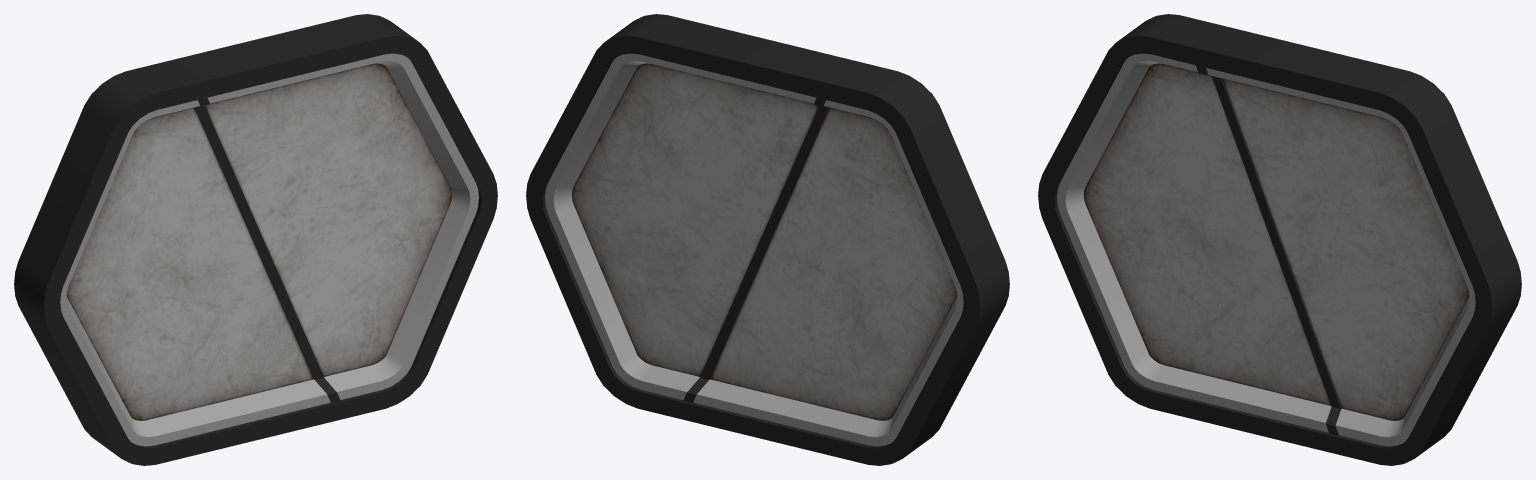
Rendered from Шлюз стеклянный.glb.
The picture shows the model from 3 angles, left to right: view 1: azimuth 30°, elevation 25°; view 2: azimuth 150°, elevation 25°; view 3: azimuth 330°, elevation 25°; orthographic projection.
Parts seen in each view (by area): view 1: Куб.006, Куб.002, Куб.001, Куб.005, Куб, Куб.003, Куб.004; view 2: Куб.006, Куб.002, Куб.001, Куб.005, Куб, Куб.003, Куб.004; view 3: Куб.002, Куб.006, Куб.001, Куб, Куб.005, Куб.004, Куб.003.
Boxes of the visible parts, x1,y1,x2,y2 form: Куб.006: [205, 63, 451, 376]; Куб.002: [66, 107, 313, 420]; Куб.001: [14, 14, 497, 465]; Куб.005: [207, 53, 478, 399]; Куб: [60, 100, 330, 446]; Куб.003: [194, 99, 335, 402]; Куб.004: [200, 98, 340, 401]; Куб.006: [572, 63, 818, 376]; Куб.002: [710, 107, 957, 420]; Куб.001: [526, 14, 1009, 465]; Куб.005: [545, 53, 816, 399]; Куб: [693, 100, 963, 446]; Куб.003: [688, 99, 829, 402]; Куб.004: [683, 98, 823, 401]; Куб.002: [1084, 63, 1330, 405]; Куб.006: [1222, 78, 1469, 420]; Куб.001: [1038, 14, 1521, 465]; Куб: [1057, 53, 1331, 432]; Куб.005: [1206, 68, 1475, 446]; Куб.004: [1200, 66, 1341, 435]; Куб.003: [1196, 65, 1335, 434].
Size of the model in its own units: 2.11 by 1.65 by 0.2406.
2 materials, 2 textured.
